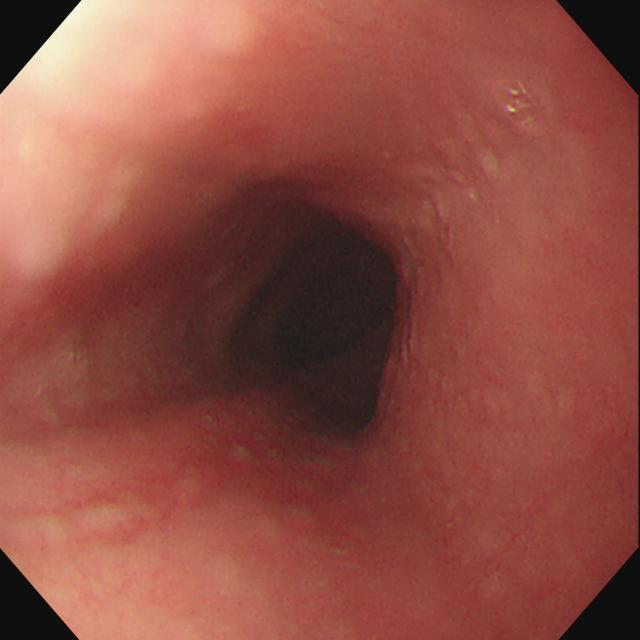E: (270, 255, 383, 364)
